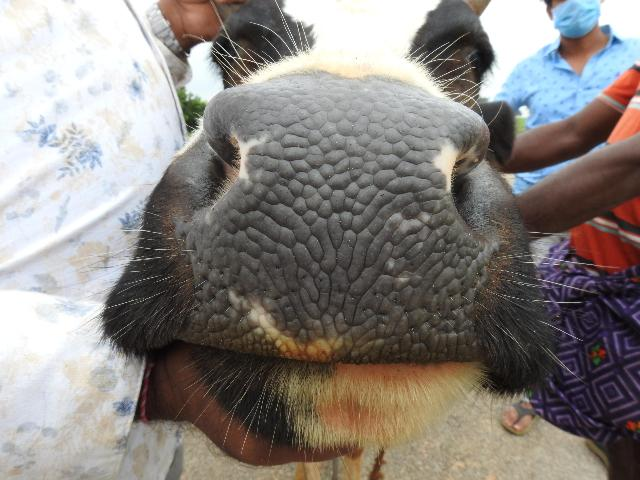Muzzle: (220, 90, 464, 354)
